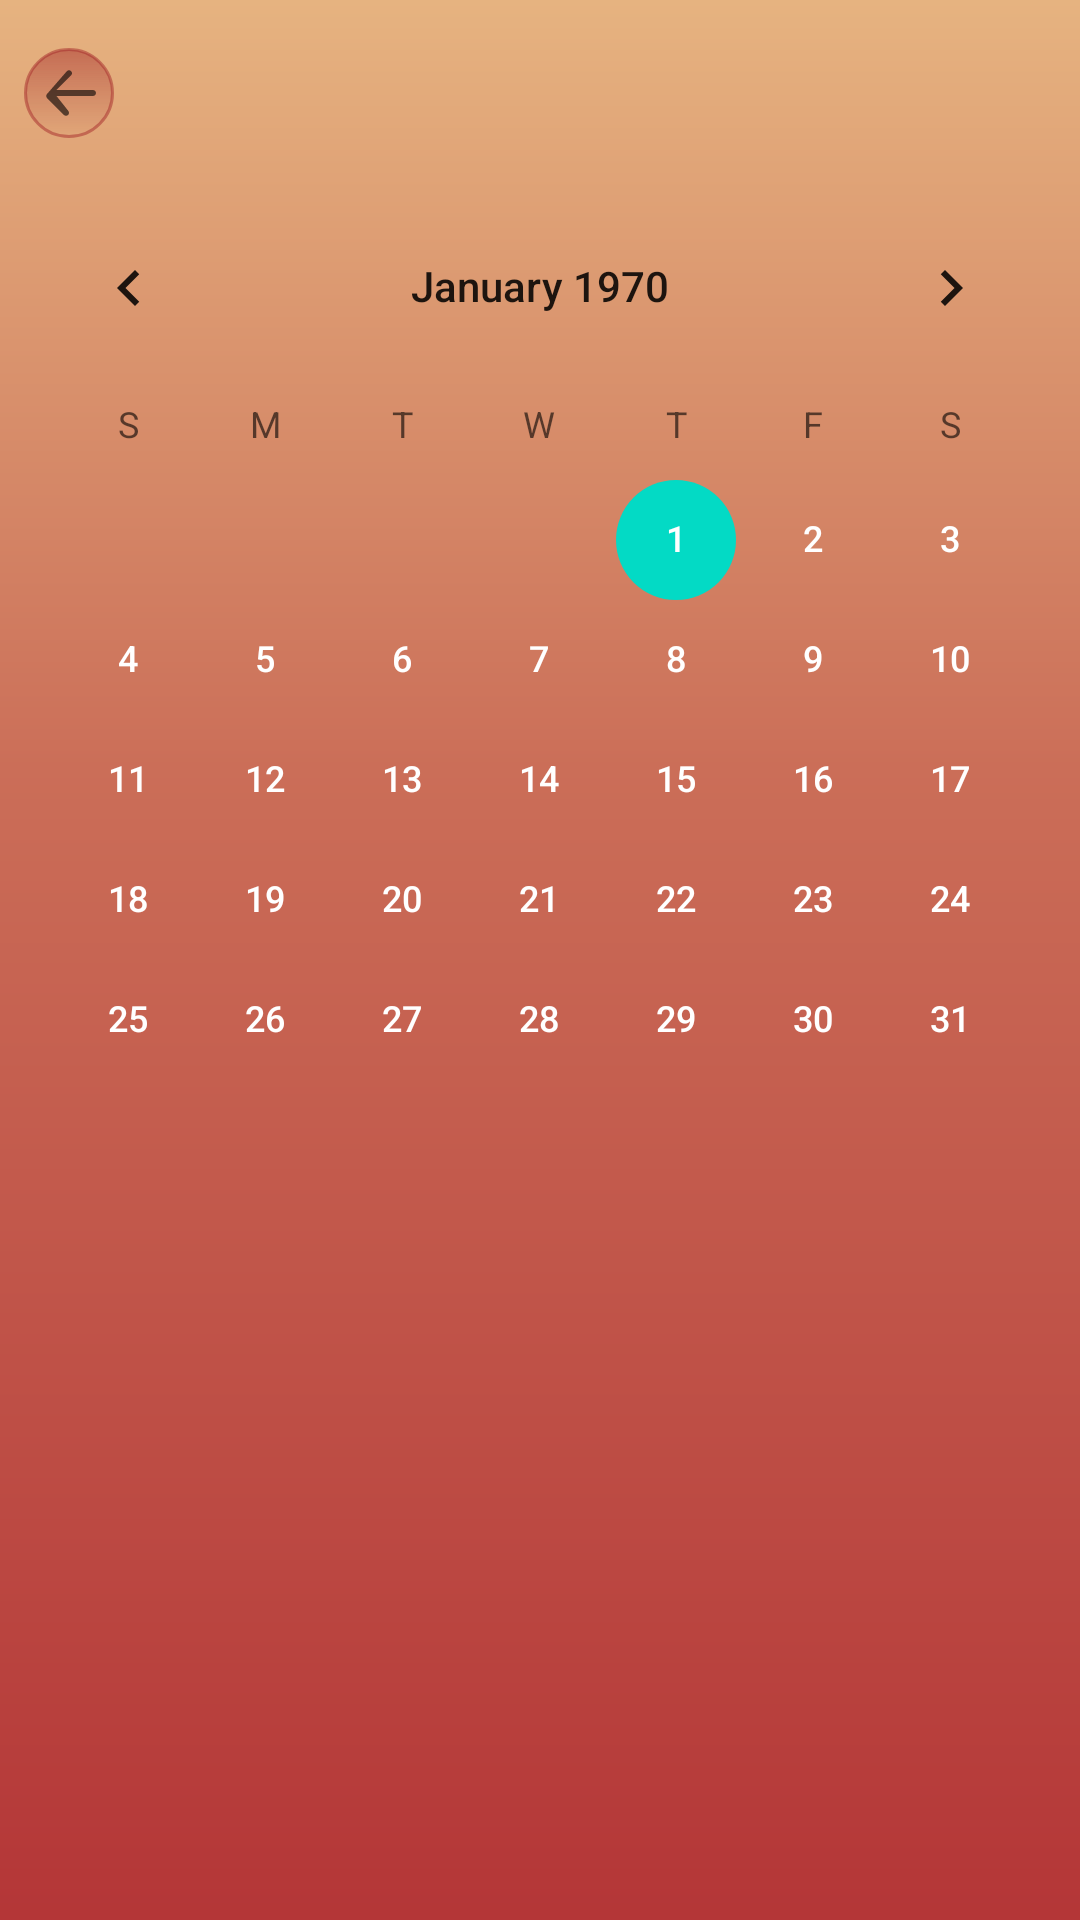

Icon bounding boxes for this 1080 x 1920 phone screenshot, format (x1, y1, x2, y2):
Back: (24, 48, 114, 138)
